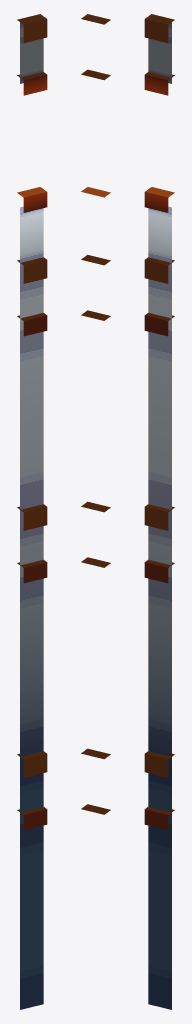
The picture shows the model from 3 angles, left to right: view 1: azimuth 30°, elevation 25°; view 2: azimuth 150°, elevation 25°; view 3: azimuth 330°, elevation 25°; orthographic projection.
Size of the model in its own units: 1 by 40 by 0.5.
2 materials, 2 textured.
